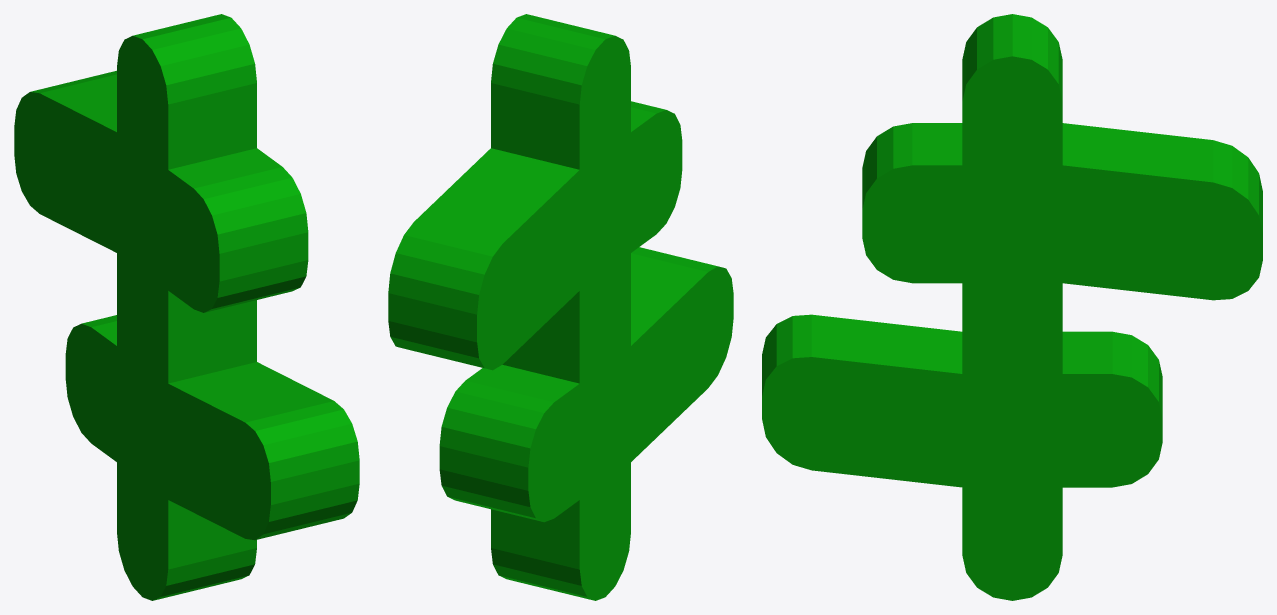
Rendered from Shop.fbx.
The picture shows the model from 3 angles, left to right: view 1: azimuth 30°, elevation 25°; view 2: azimuth 150°, elevation 25°; view 3: azimuth 270°, elevation 25°; orthographic projection. The views are drawn at different scales.
Visible parts, largest first — view 1: Cube; view 2: Cube; view 3: Cube.
Part boxes in pixels (x1=…): Cube: x1=14, y1=14, x2=359, y2=600; Cube: x1=388, y1=14, x2=733, y2=600; Cube: x1=762, y1=14, x2=1262, y2=600.
Bounding box in the file's own units: 200 × 1200 × 1000.
